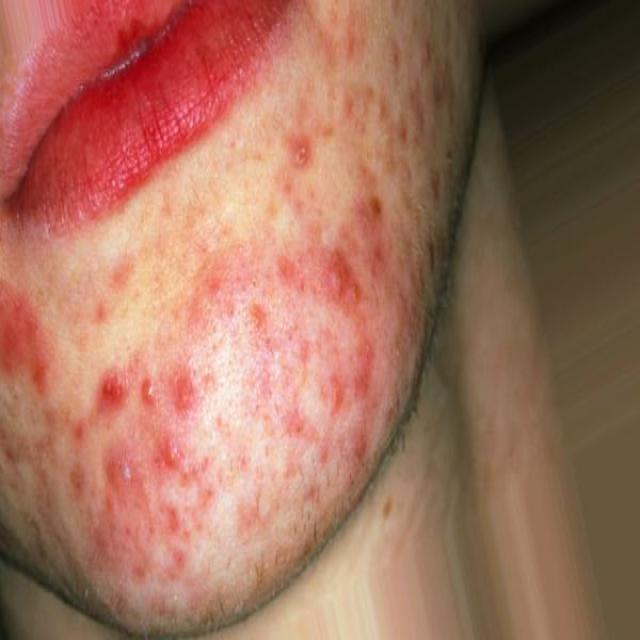acne: (102, 419, 204, 509), (318, 356, 408, 426), (48, 420, 96, 538), (300, 256, 378, 320), (3, 296, 56, 386), (350, 184, 418, 236), (94, 370, 158, 424), (174, 352, 222, 418), (279, 118, 335, 172), (243, 294, 279, 346)
